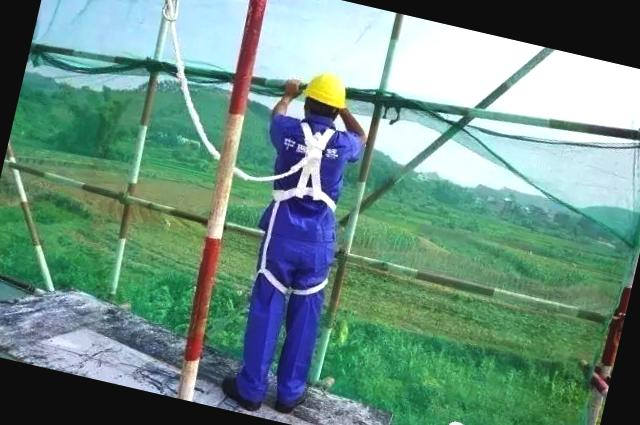helmet: (294, 66, 355, 118)
no_vest: (239, 102, 372, 264)
person: (198, 56, 387, 425)
